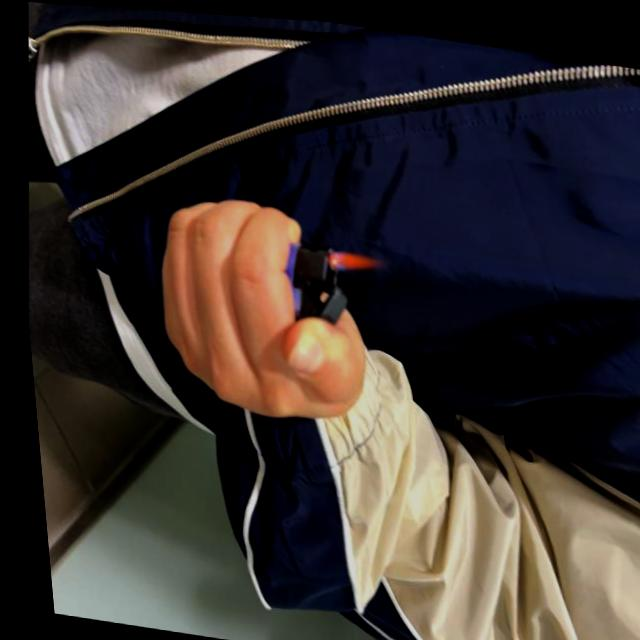Fire: (321, 243, 382, 272)
